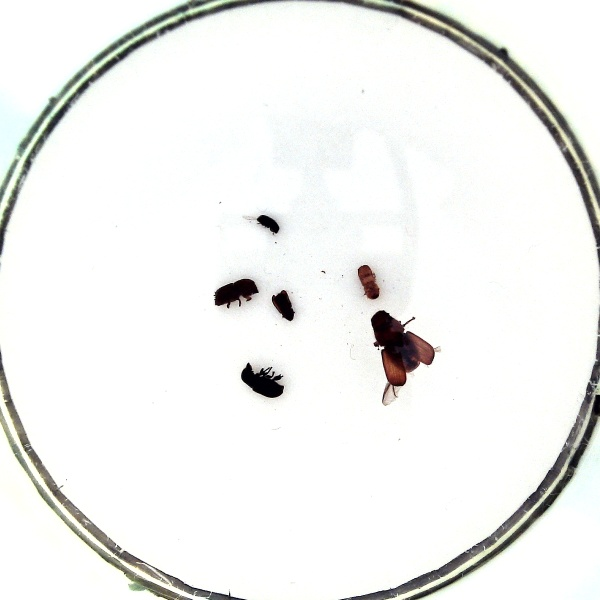acuminatus: (256, 214, 279, 233)
armandi: (241, 362, 284, 398)
coleoptera: (357, 265, 380, 299), (271, 289, 294, 321)
leconte: (370, 310, 420, 373)
linnaeus: (214, 278, 258, 306)
